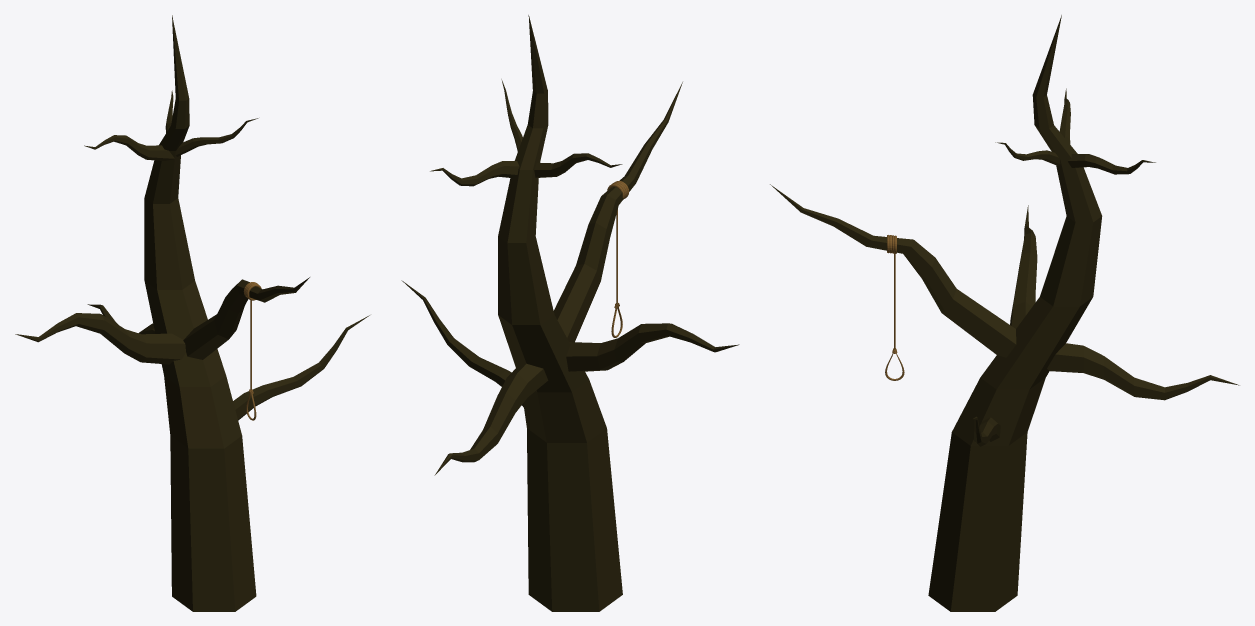
Rendered from Turret Game Dead Tree 002.fbx.
3 renders of one model, left to right at view 1: azimuth 30°, elevation 25°; view 2: azimuth 150°, elevation 25°; view 3: azimuth 270°, elevation 25°, orthographic. The views are drawn at different scales.
Parts seen in each view (by area): view 1: Cylinder, Cylinder.001; view 2: Cylinder, Cylinder.001; view 3: Cylinder.
Part boxes in pixels (x1,y1,x2,y2): Cylinder: (15, 15, 369, 611); Cylinder.001: (243, 282, 261, 420); Cylinder: (401, 15, 739, 611); Cylinder.001: (607, 181, 629, 337); Cylinder: (770, 15, 1239, 611).
Bounding box in the file's own units: 906 × 1440 × 1059.
